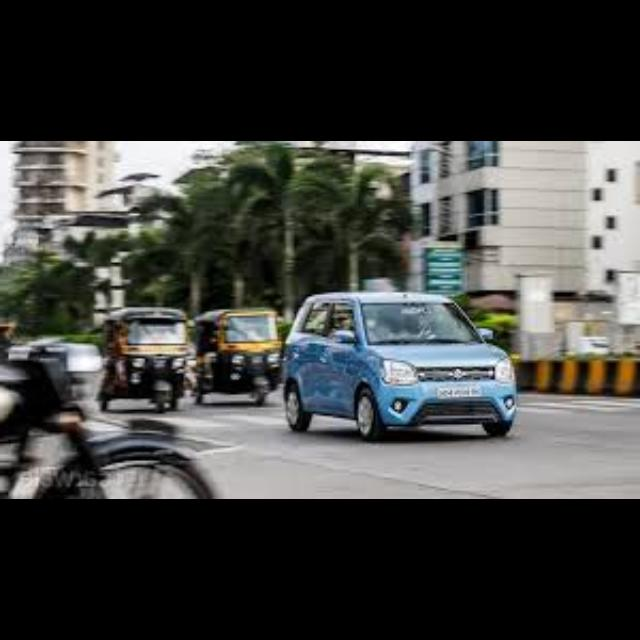vehicles: (279, 288, 526, 444), (100, 306, 196, 410), (190, 303, 286, 405)
